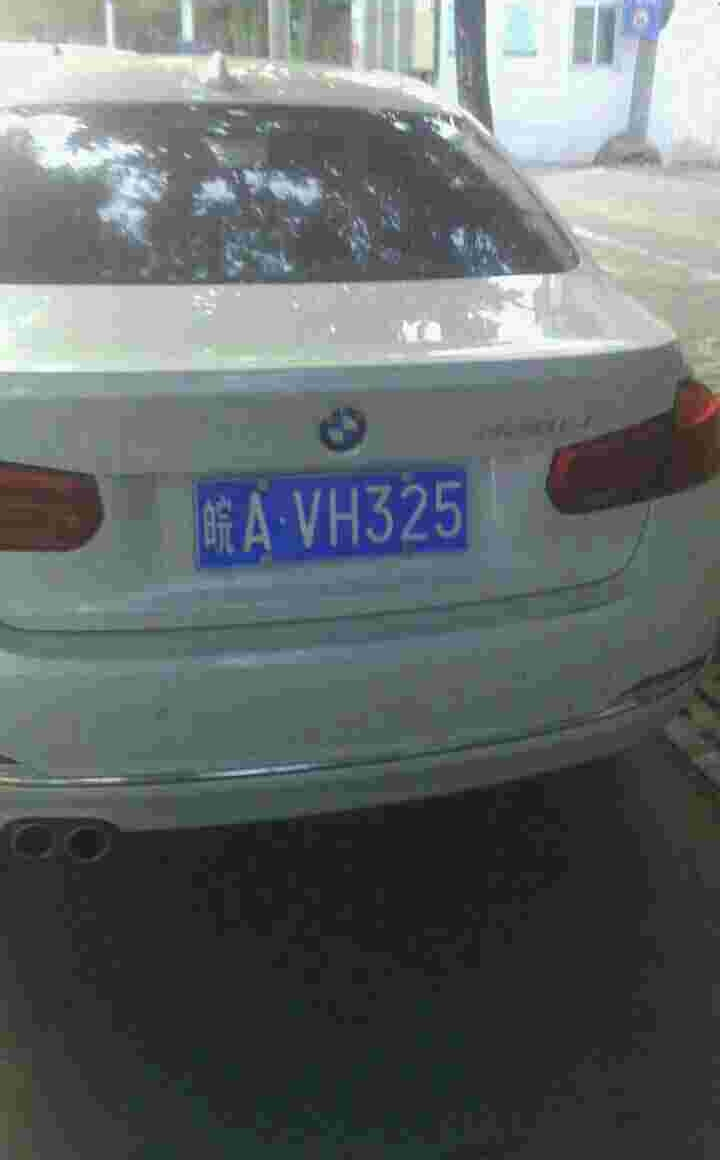license_plate: (190, 463, 468, 575)
